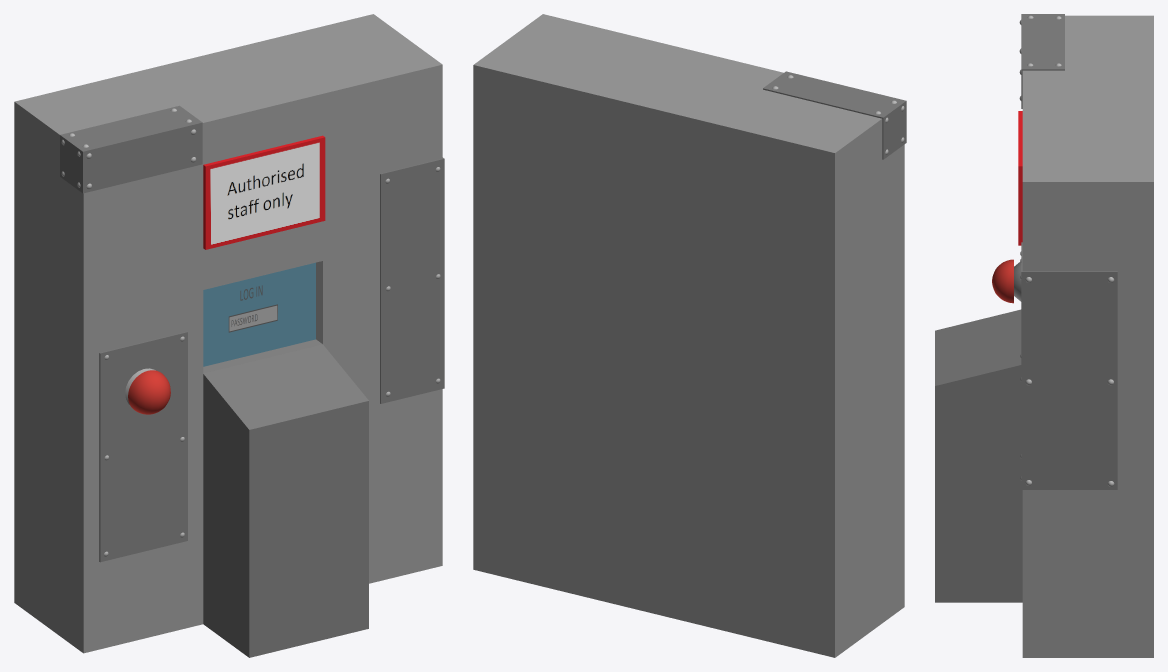
The model's file is computerterminal.fbx.
3 views of the same model, side by side, from view 1: azimuth 30°, elevation 25°; view 2: azimuth 150°, elevation 25°; view 3: azimuth 270°, elevation 25° (orthographic). The views are drawn at different scales.
Parts seen in each view (by area): view 1: pCube4, pCube2, pCube7, pCube6, pCube5, pCube3, pCube8, pSphere1; view 2: pCube4, pCube8; view 3: pCube4, pCube2, pCube6, pCube8, pSphere1, pCube5.
Boxes of the visible parts, box(x1,y1,x2,y2) form: pCube4: box(14, 14, 442, 653); pCube2: box(203, 344, 368, 657); pCube7: box(99, 331, 187, 562); pCube6: box(380, 157, 444, 403); pCube5: box(203, 135, 325, 249); pCube3: box(203, 261, 322, 373); pCube8: box(60, 105, 202, 193); pSphere1: box(128, 370, 170, 414); pCube4: box(473, 14, 904, 657); pCube8: box(763, 71, 906, 159); pCube4: box(1022, 15, 1153, 657); pCube2: box(935, 309, 1022, 602); pCube6: box(1021, 242, 1117, 489); pCube8: box(1021, 14, 1064, 108); pSphere1: box(992, 259, 1013, 303); pCube5: box(1018, 111, 1022, 245).
Bounding box in the file's own units: 9.14 × 12.07 × 5.
Materials: 8 (2 with a texture image).
